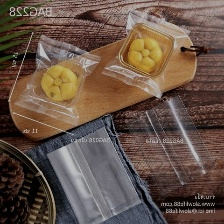snack: (41, 90, 221, 224), (9, 29, 105, 130), (97, 5, 194, 103)
